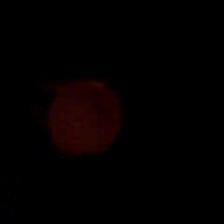fertile: (43, 78, 127, 158)
